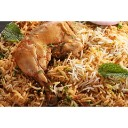briyani: (2, 20, 127, 106)
